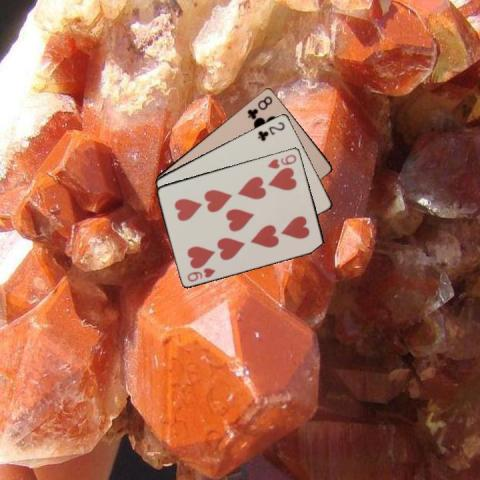2c: (255, 118, 286, 142)
8c: (244, 93, 274, 120)
9h: (264, 151, 298, 170), (184, 264, 217, 283)
